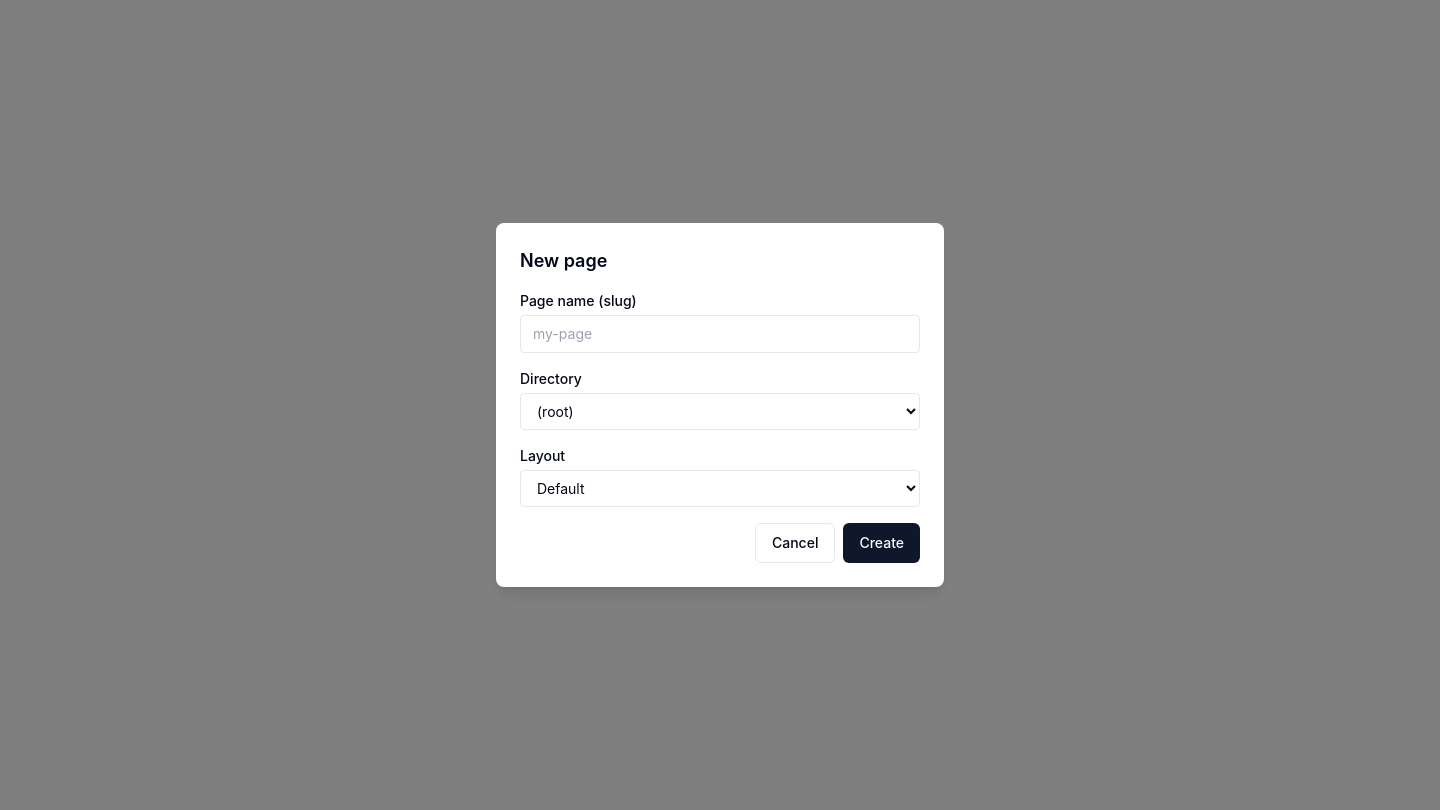
Test: PageCreationDialog › shows validation error for invalid slug characters
Type "Bad Name!" into the field labelled "Page name (slug)" at (720, 334), box [520,315,920,353]
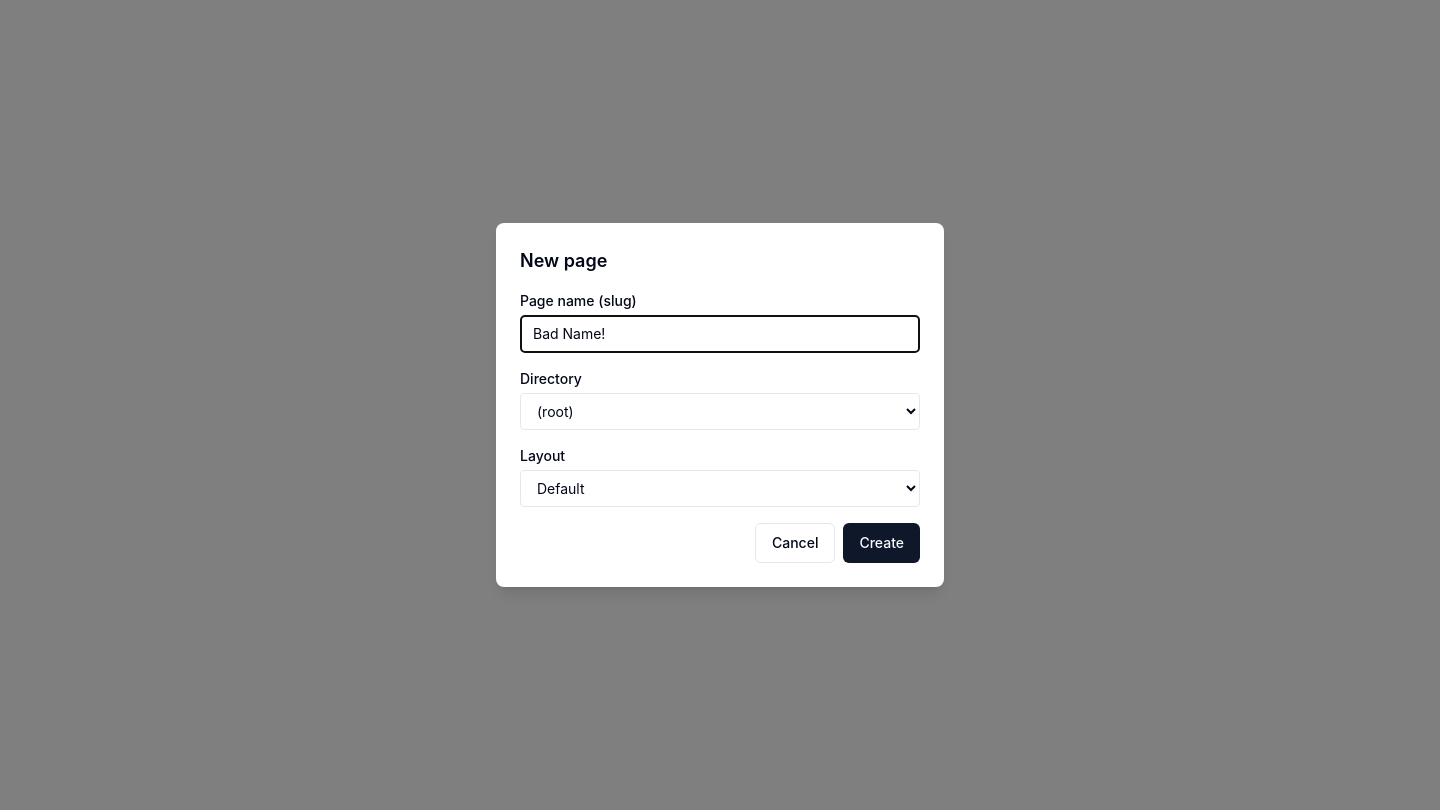
Click the button "Create" at (882, 543), box [843,523,920,563]
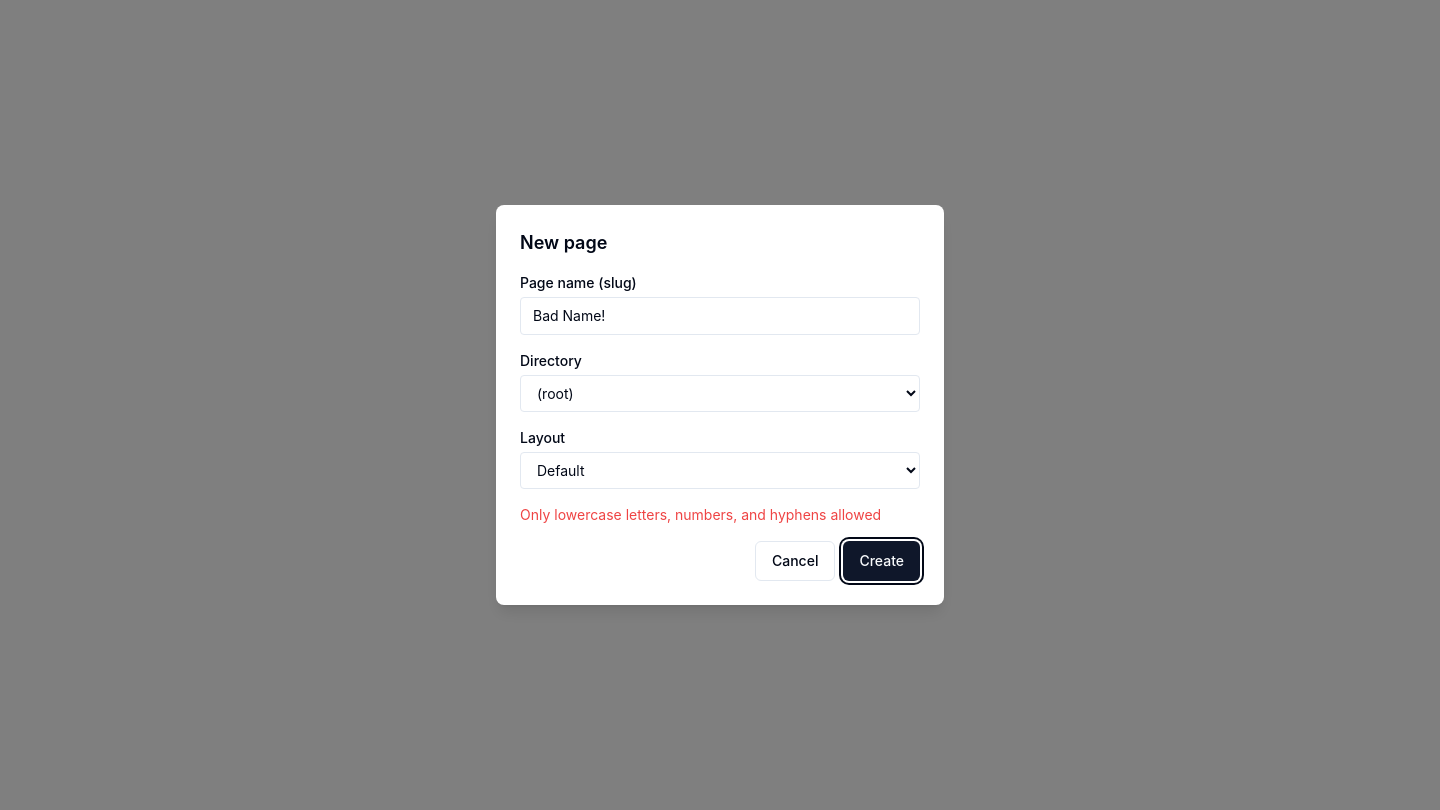
Check: the text "Only lowercase letters, numbers, and hyphens allowed" is shown, box [520,505,920,525]
